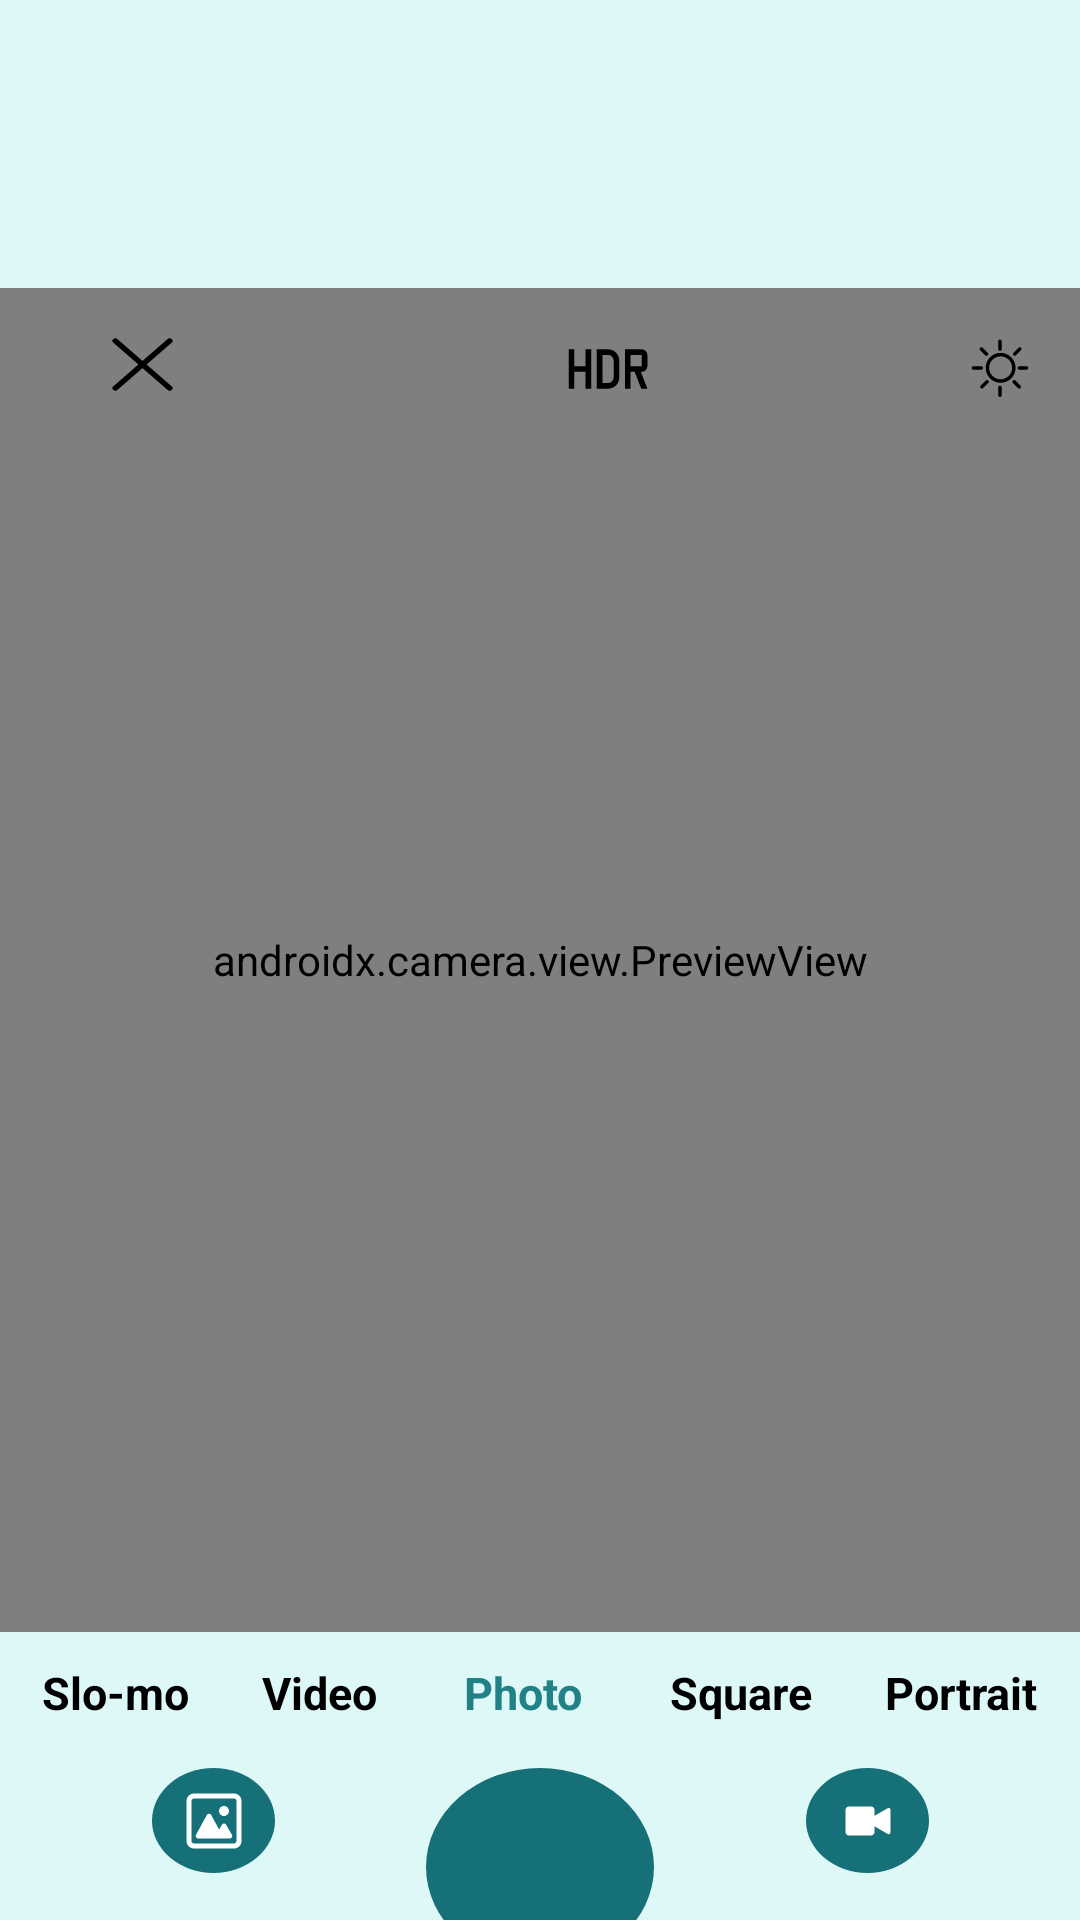

Icons on this 1080*1920 Android screen, each with its box as (x1, y1, x2, y2):
brightness: (972, 339, 1028, 397)
cross: (112, 338, 173, 391)
video: (806, 1768, 929, 1873)
